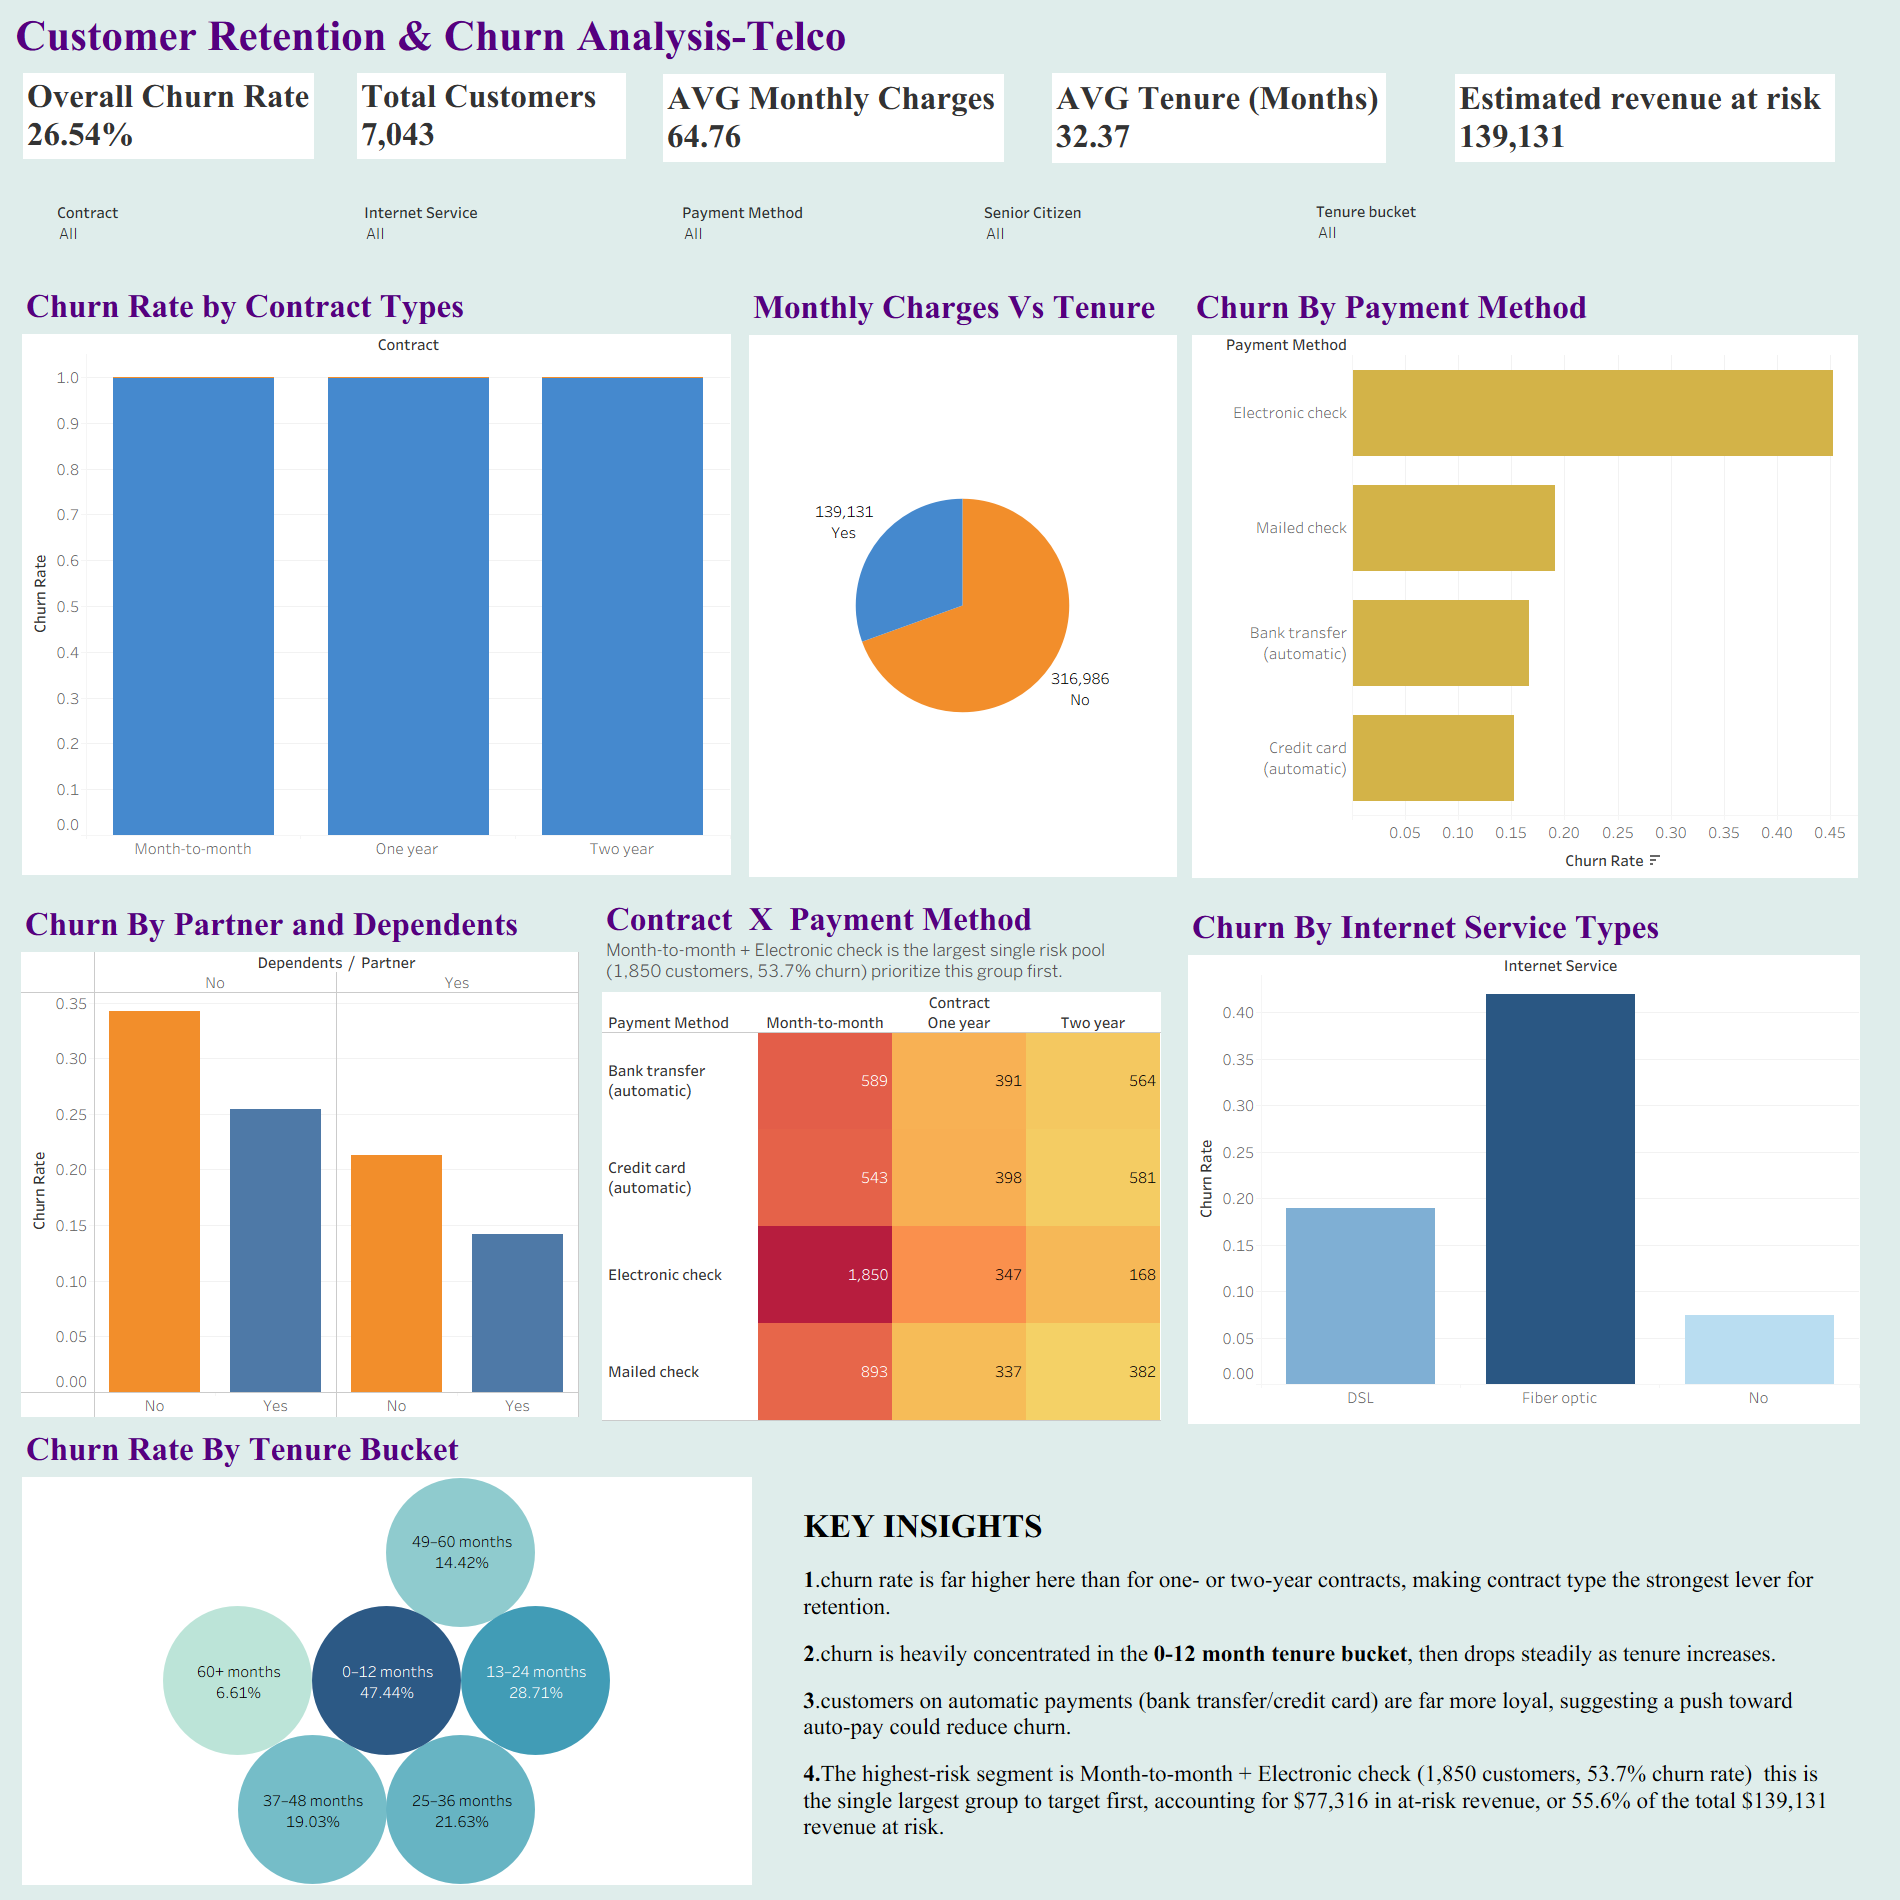

Layout of this report page (visuals, bound fields, positions):
{"tool":"tableau","page":{"name":"Dashboard 1","canvas":[1900,1900],"ordinal":0},"visuals":[{"type":"title","box":[8,8,1884,56]},{"type":"worksheet","title":"Sheet 1","mark":"Automatic","box":[23,58,300,127]},{"type":"worksheet","title":"Sheet 2","mark":"Automatic","box":[357,58,291,129]},{"type":"worksheet","title":"Sheet 4","mark":"Automatic","box":[1052,58,346,131]},{"type":"worksheet","title":"Sheet 3","mark":"Automatic","box":[663,59,344,136]},{"type":"worksheet","title":"Sheet 5","mark":"Automatic","box":[1455,59,383,135]},{"type":"filter","title":"Sheet 1","param":"[federated.0e724o61w0xcig17ypa4v02xeoe5].[none:Calculation_0394467539402756:nk]","box":[1316,200,201,239]},{"type":"filter","title":"Sheet 1","param":"[federated.0e724o61w0xcig17ypa4v02xeoe5].[none:Contract:nk]","box":[57,201,220,152]},{"type":"filter","title":"Sheet 1","param":"[federated.0e724o61w0xcig17ypa4v02xeoe5].[none:InternetService:nk]","box":[364,201,228,152]},{"type":"filter","title":"Sheet 1","param":"[federated.0e724o61w0xcig17ypa4v02xeoe5].[none:PaymentMethod:nk]","box":[682,201,218,181]},{"type":"filter","title":"Sheet 1","param":"[federated.0e724o61w0xcig17ypa4v02xeoe5].[none:SeniorCitizen:nk]","box":[984,201,220,123]},{"type":"worksheet","title":"Sheet 6","mark":"Automatic","rows":["Calculation_0394467536805891"],"cols":["Contract"],"box":[22,282,708,593]},{"type":"worksheet","title":"Sheet 10","mark":"Pie","box":[749,283,427,593]},{"type":"worksheet","title":"Sheet 8","mark":"Automatic","rows":["PaymentMethod"],"cols":["Calculation_0394467536805891"],"box":[1192,283,665,595]},{"type":"worksheet","title":"Sheet 11","mark":"Square","rows":["PaymentMethod"],"cols":["Contract"],"box":[602,895,559,527]},{"type":"worksheet","title":"Sheet 13","mark":"Automatic","rows":["Calculation_0394467536805891"],"cols":["Dependents","Partner"],"box":[21,900,559,518]},{"type":"worksheet","title":"Sheet 7","mark":"Automatic","rows":["Calculation_0394467536805891"],"cols":["InternetService"],"box":[1188,903,671,521]},{"type":"worksheet","title":"Sheet 9","mark":"Circle","box":[22,1425,758,459]},{"type":"text","box":[800,1481,1051,391]}]}

Visuals, with their boxes in screenshot pixels (x1, y1, x2, y2), scaled from the page's 1900x1900 canvas onto the 1900x1900 screenshot:
title: detection(8, 8, 1892, 64)
"Sheet 1" worksheet: detection(23, 58, 323, 185)
"Sheet 2" worksheet: detection(357, 58, 648, 187)
"Sheet 4" worksheet: detection(1052, 58, 1398, 189)
"Sheet 3" worksheet: detection(663, 59, 1007, 195)
"Sheet 5" worksheet: detection(1455, 59, 1838, 194)
"Sheet 1" filter: detection(1316, 200, 1517, 439)
"Sheet 1" filter: detection(57, 201, 277, 353)
"Sheet 1" filter: detection(364, 201, 592, 353)
"Sheet 1" filter: detection(682, 201, 900, 382)
"Sheet 1" filter: detection(984, 201, 1204, 324)
"Sheet 6" worksheet: detection(22, 282, 730, 875)
"Sheet 10" worksheet (Pie marks): detection(749, 283, 1176, 876)
"Sheet 8" worksheet: detection(1192, 283, 1857, 878)
"Sheet 11" worksheet (Square marks): detection(602, 895, 1161, 1422)
"Sheet 13" worksheet: detection(21, 900, 580, 1418)
"Sheet 7" worksheet: detection(1188, 903, 1859, 1424)
"Sheet 9" worksheet (Circle marks): detection(22, 1425, 780, 1884)
text: detection(800, 1481, 1851, 1872)
